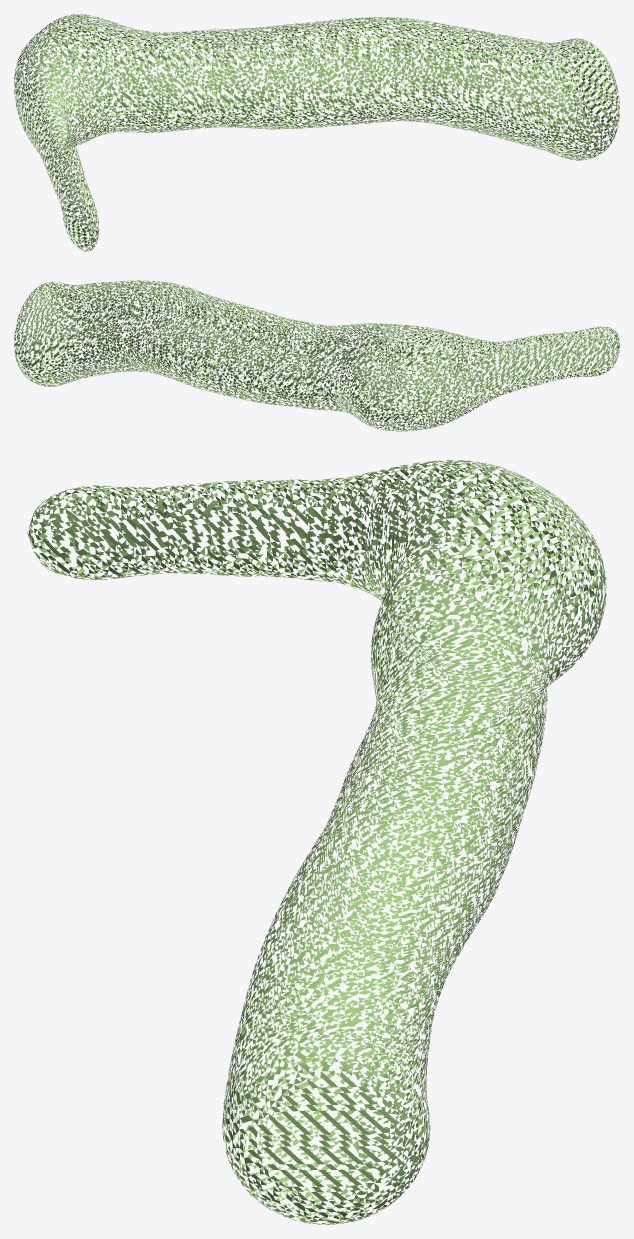
File: morph_013.glb
3 renders of one model, top to bottom at view 1: azimuth 30°, elevation 25°; view 2: azimuth 150°, elevation 25°; view 3: azimuth 270°, elevation 25°, orthographic. The views are drawn at different scales.
Bounding box in the file's own units: 137 × 45.17 × 66.25.
